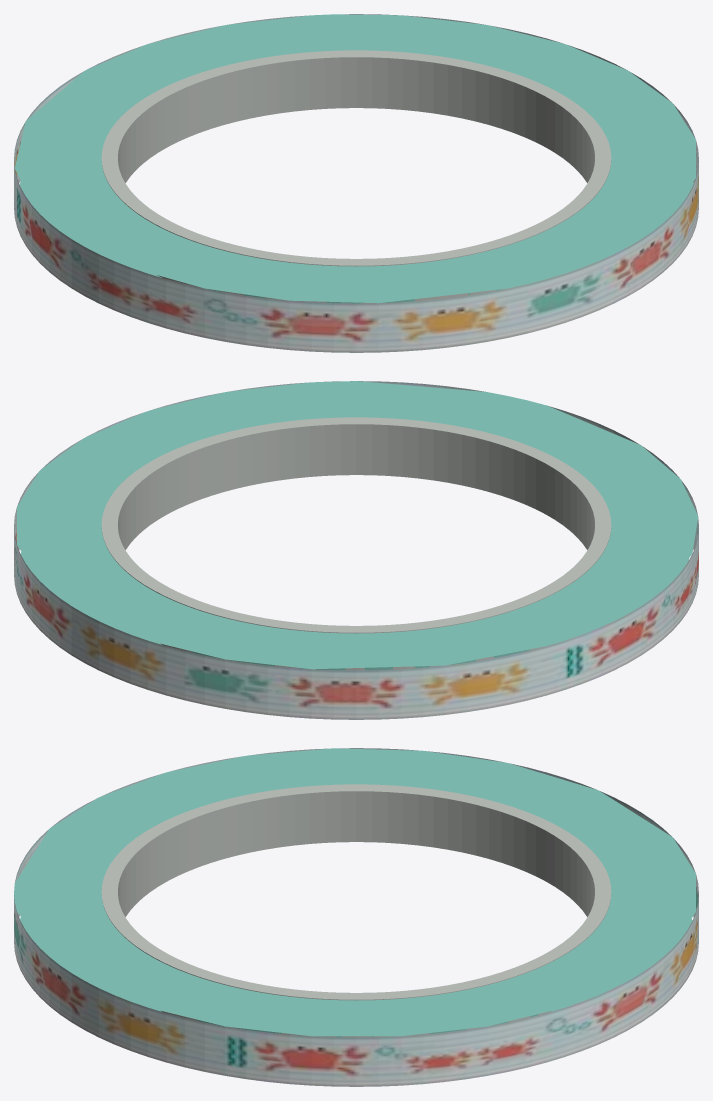
The model's file is masking-tape-crabs.glb.
3 views of the same model, one above another, from view 1: azimuth 30°, elevation 25°; view 2: azimuth 150°, elevation 25°; view 3: azimuth 270°, elevation 25° (orthographic).
Parts seen in each view (by area): view 1: Cylinder.001, Cylinder.002; view 2: Cylinder.001, Cylinder.002; view 3: Cylinder.001, Cylinder.002.
Part boxes in pixels (left/top/right/bottom): Cylinder.001: left=14, top=14, right=698, bottom=352; Cylinder.002: left=101, top=50, right=611, bottom=303; Cylinder.001: left=14, top=381, right=698, bottom=719; Cylinder.002: left=101, top=417, right=611, bottom=670; Cylinder.001: left=14, top=748, right=698, bottom=1086; Cylinder.002: left=101, top=784, right=611, bottom=1037.
Bounding box in the file's own units: 0.088 × 0.00721 × 0.088.
Materials: 3 (1 with a texture image).
